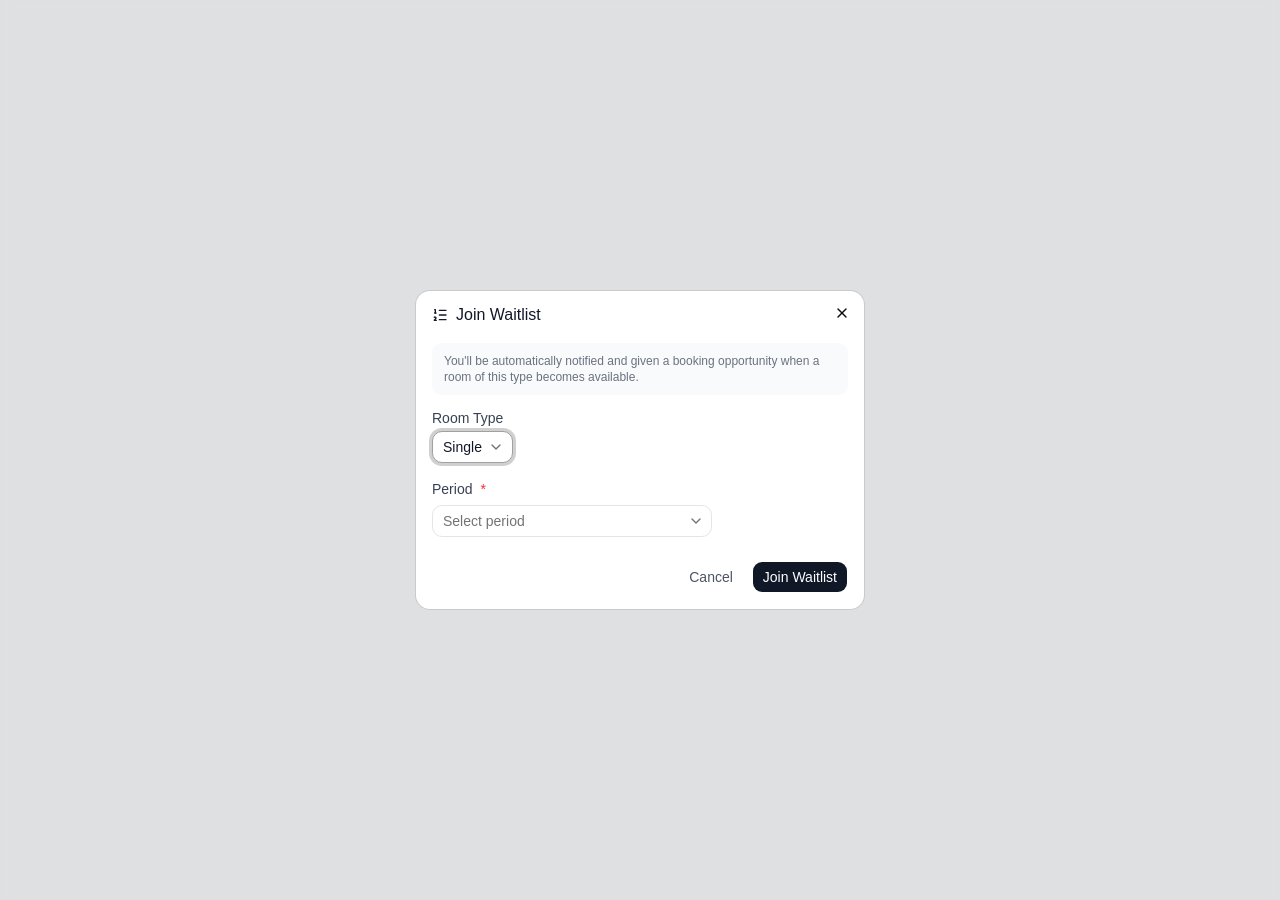
Test: JoinWaitlistDialog › shows a validation error when submitted without selecting a period
This screenshot has width=1280, height=900.
Click the button "Join Waitlist" at point(800, 577), box [752,561,848,593]
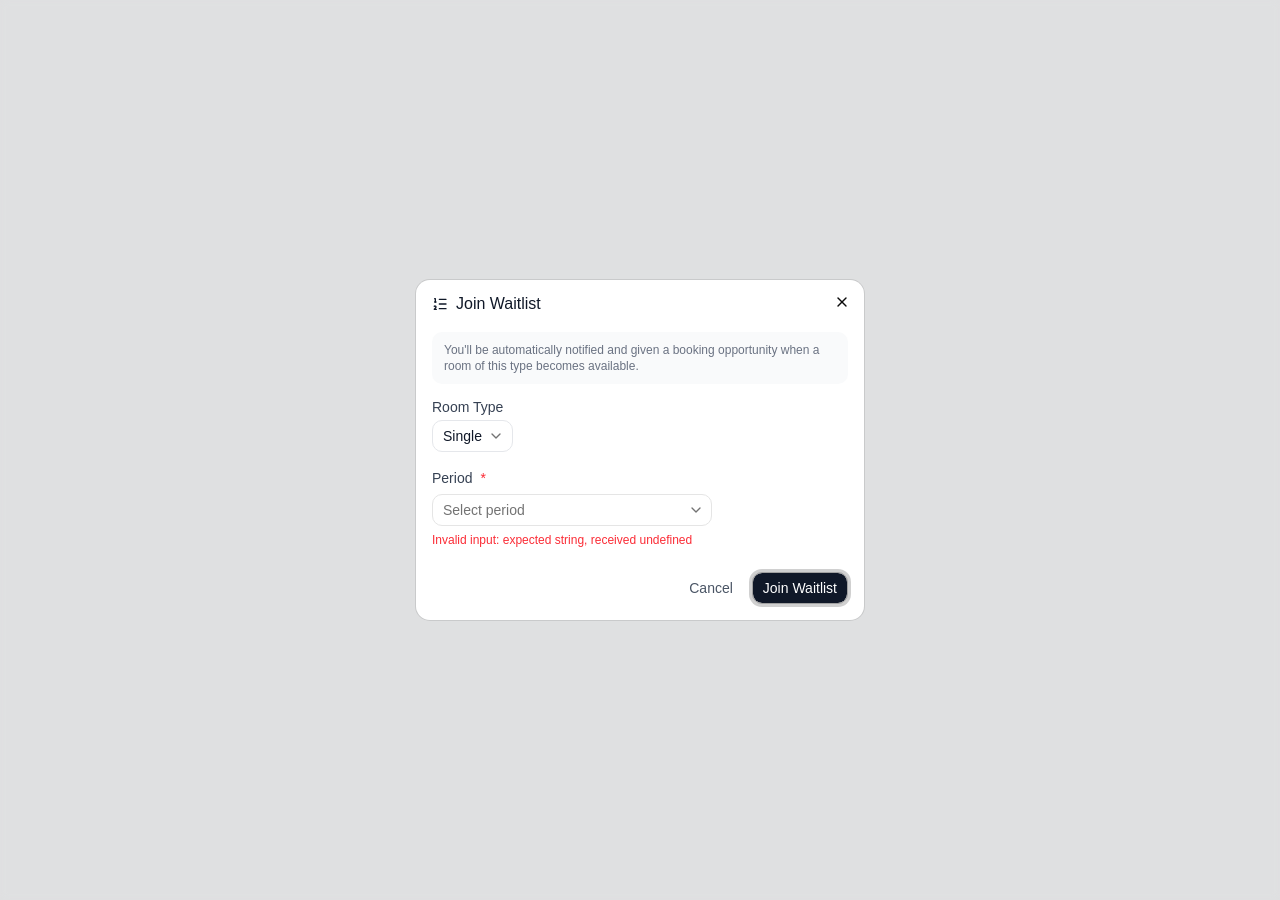
Expected: the text "Invalid input: expected string, received undefined" is shown, [432,533,692,547]
